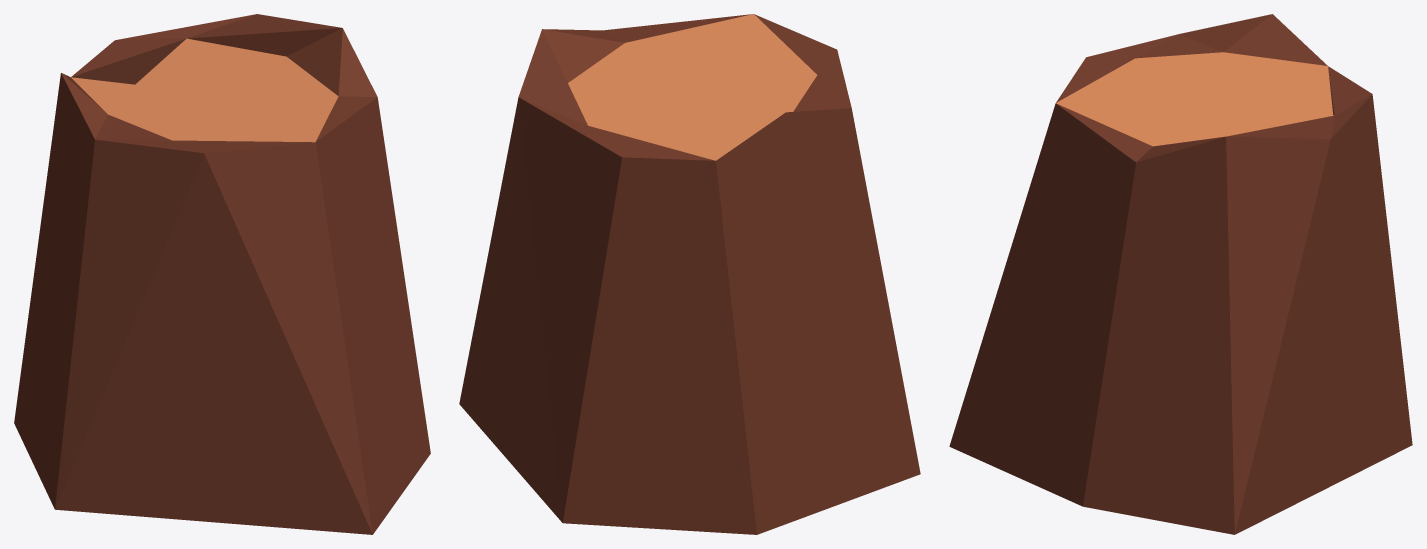
Rendered from pine_trunk_type_1_LOD2.fbx.
3 views of the same model, side by side, from view 1: azimuth 30°, elevation 25°; view 2: azimuth 150°, elevation 25°; view 3: azimuth 270°, elevation 25° (orthographic). The views are drawn at different scales.
Visible parts, largest first — view 1: pine_trunk; view 2: pine_trunk; view 3: pine_trunk.
Part boxes in pixels (x1,y1,x2,y2): pine_trunk: (14, 14, 430, 534); pine_trunk: (459, 14, 920, 534); pine_trunk: (949, 14, 1412, 534).
Bounding box in the file's own units: 123 × 110 × 127.
